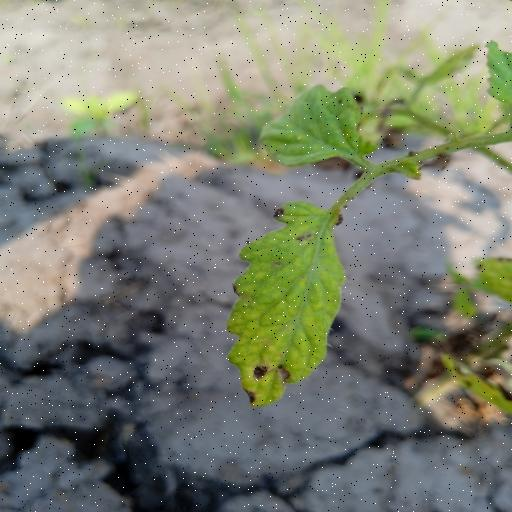Tomato_Brown_Spots: (226, 198, 348, 414), (255, 79, 368, 172)
